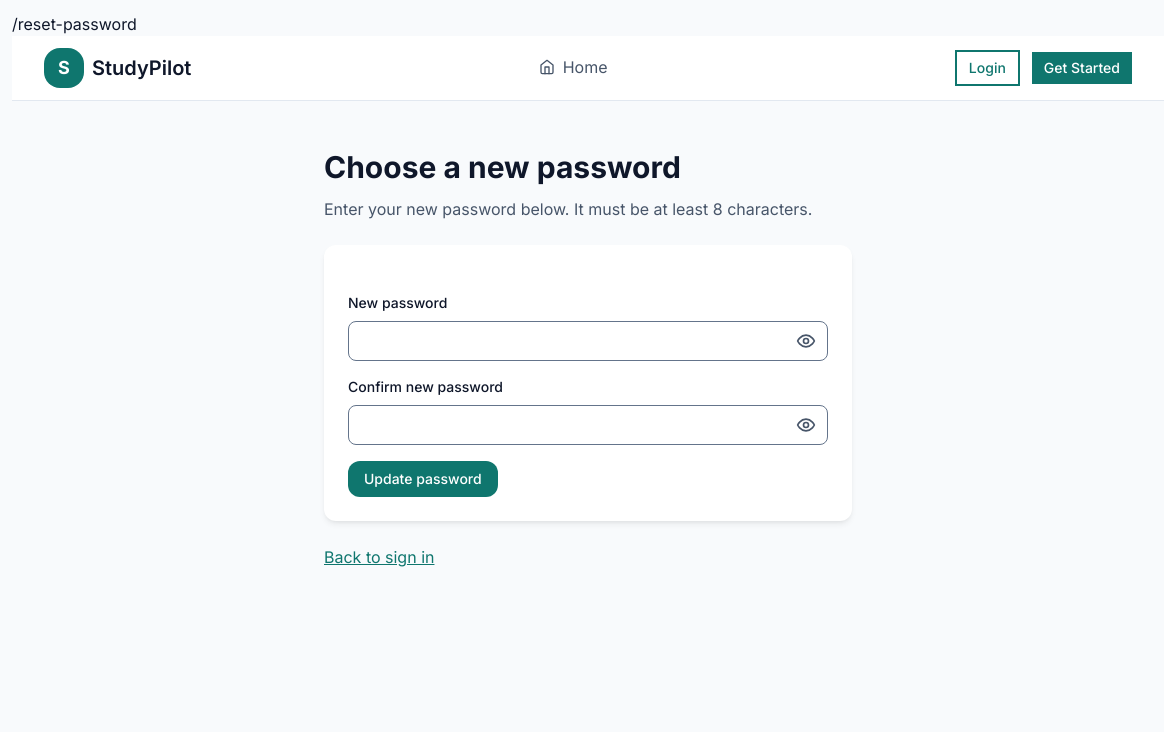
it: ResetPasswordPage › keeps the token and offers retry for a 503 without a rate-limit countdown
Type "NewPassword1!" into the password field labelled "New password" at (588, 341), box [348,321,828,361]
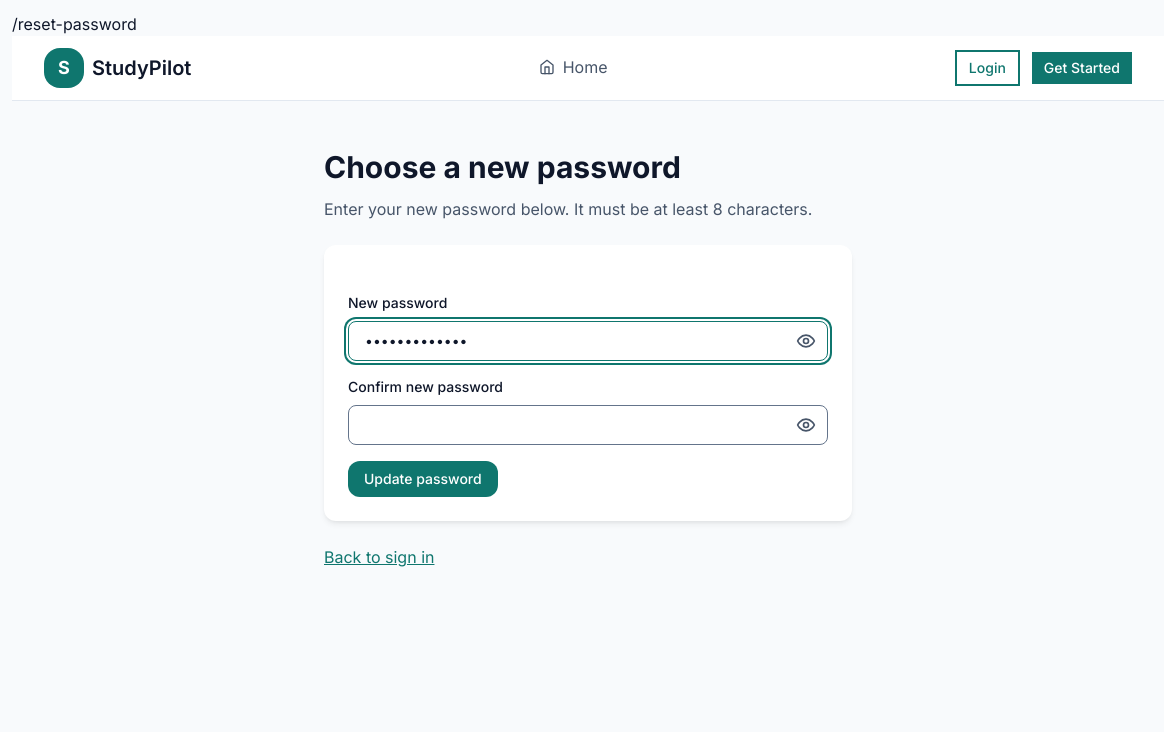
Type "NewPassword1!" into the password field labelled "Confirm new password" at (588, 425), box [348,405,828,445]
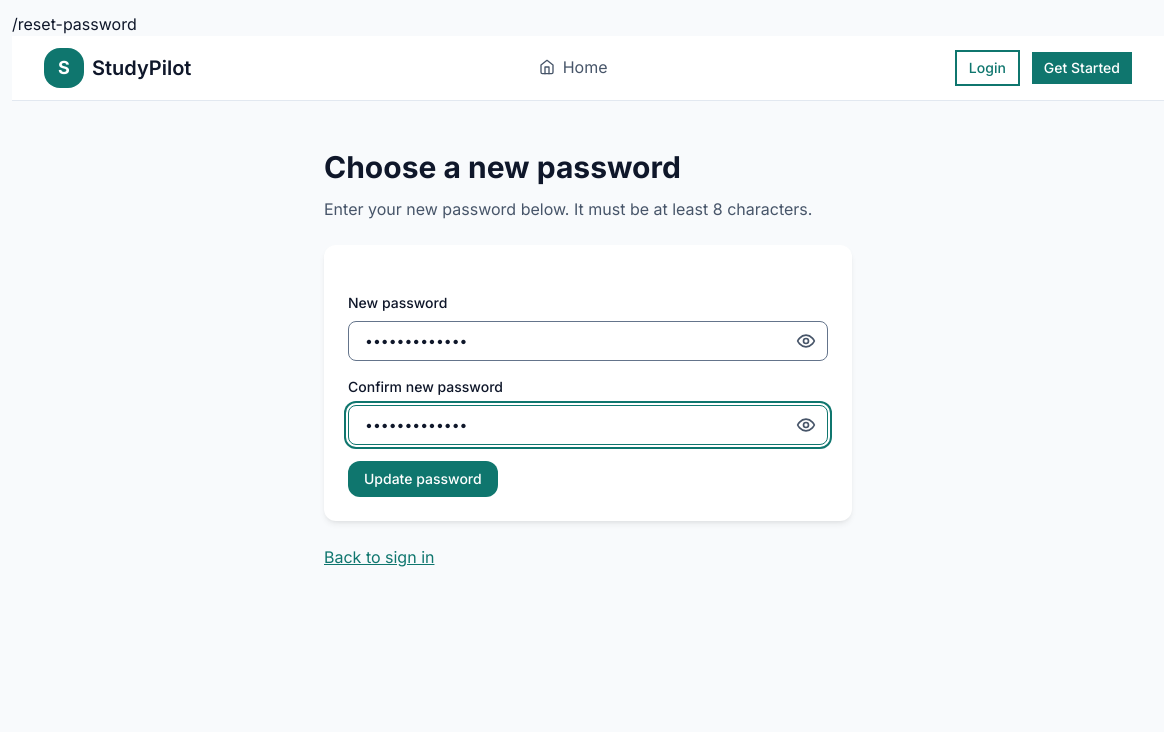
Click the button "Update password" at (423, 479), box [348,461,498,497]
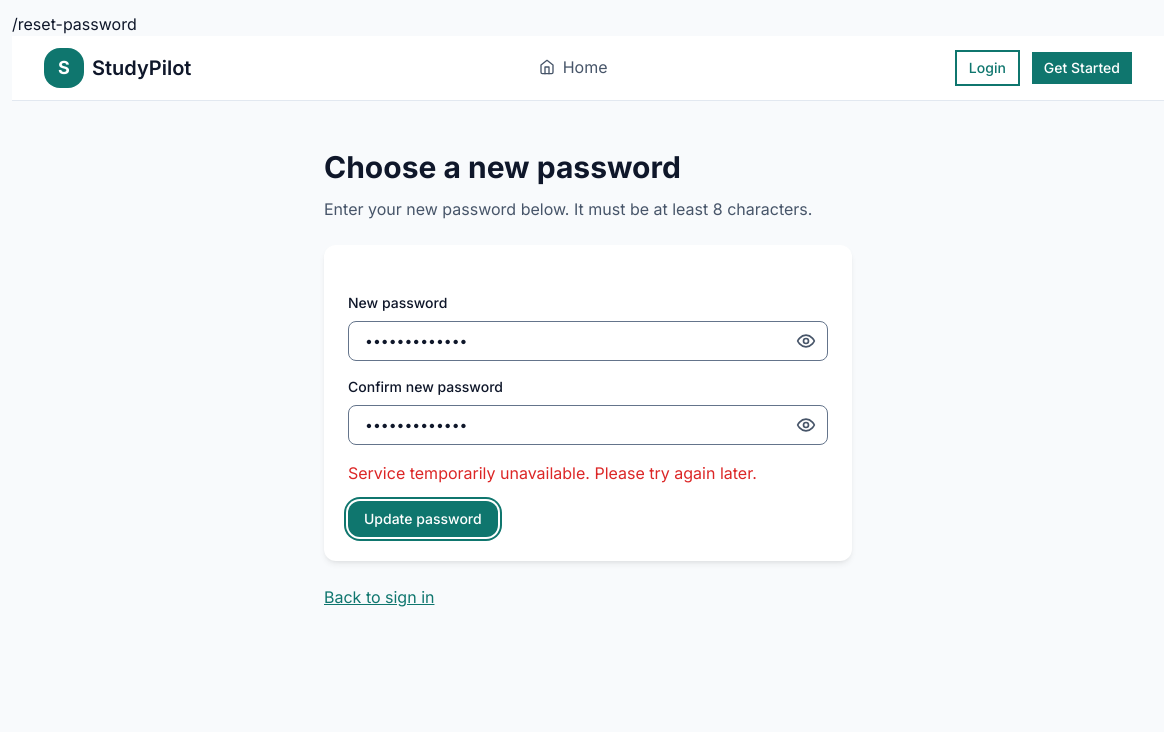
Expected: the button "Update password" is enabled, [348,501,498,537]
Expected: the message reads "Service temporarily unavailable. Please try again later.", [348,463,757,483]
